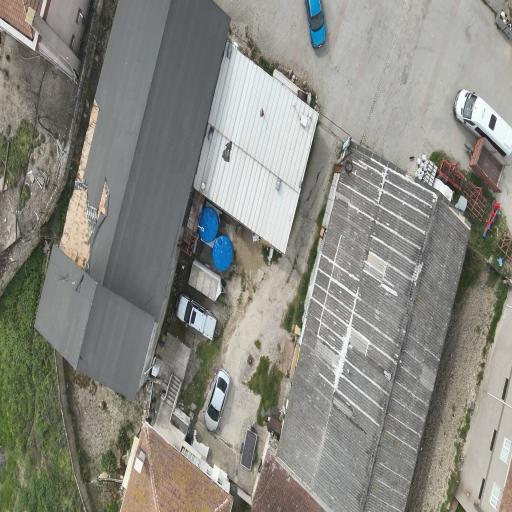car: (454, 90, 512, 157), (176, 294, 215, 338), (205, 369, 228, 429), (304, 0, 325, 47)
